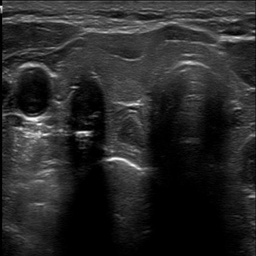mass: (69, 75, 107, 152)
